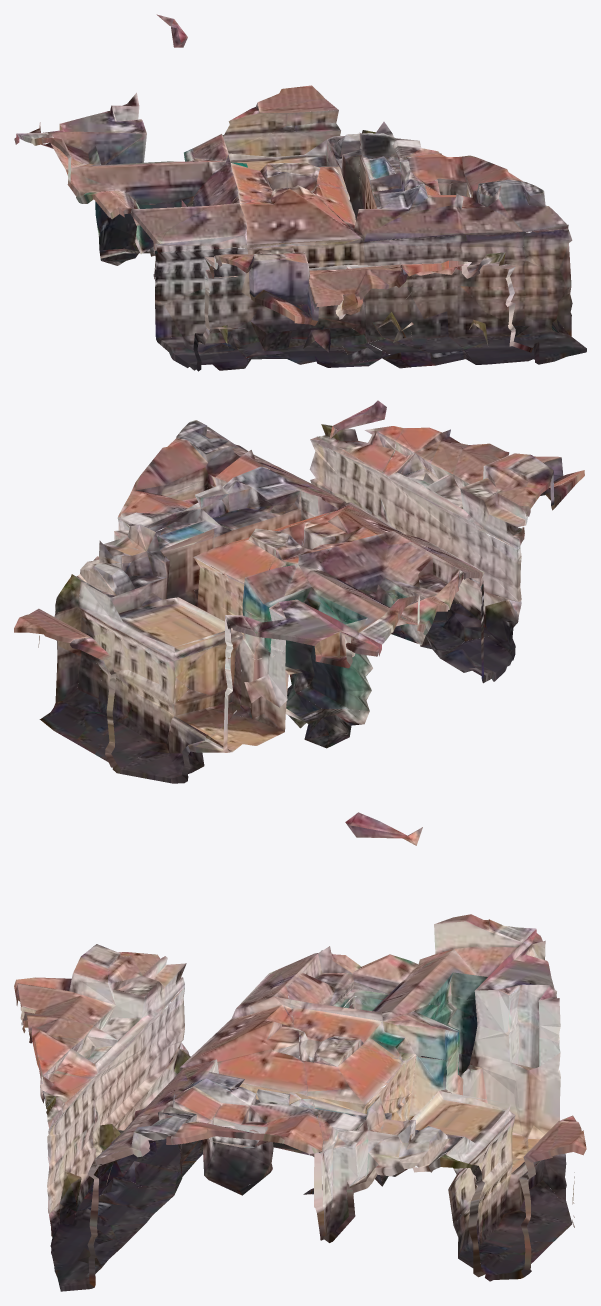
3 renders of one model, top to bottom at view 1: azimuth 30°, elevation 25°; view 2: azimuth 150°, elevation 25°; view 3: azimuth 270°, elevation 25°, orthographic. The views are drawn at different scales.
Visible parts, largest first — view 1: Mesh_0; view 2: Mesh_0; view 3: Mesh_0.
Boxes of the visible parts, x1=… form: Mesh_0: x1=14, y1=14, x2=586, y2=371; Mesh_0: x1=14, y1=400, x2=584, y2=783; Mesh_0: x1=14, y1=812, x2=586, y2=1291.
Bounding box in the file's own units: 66.54 × 54.14 × 82.55.
Materials: 2 (2 with a texture image).
